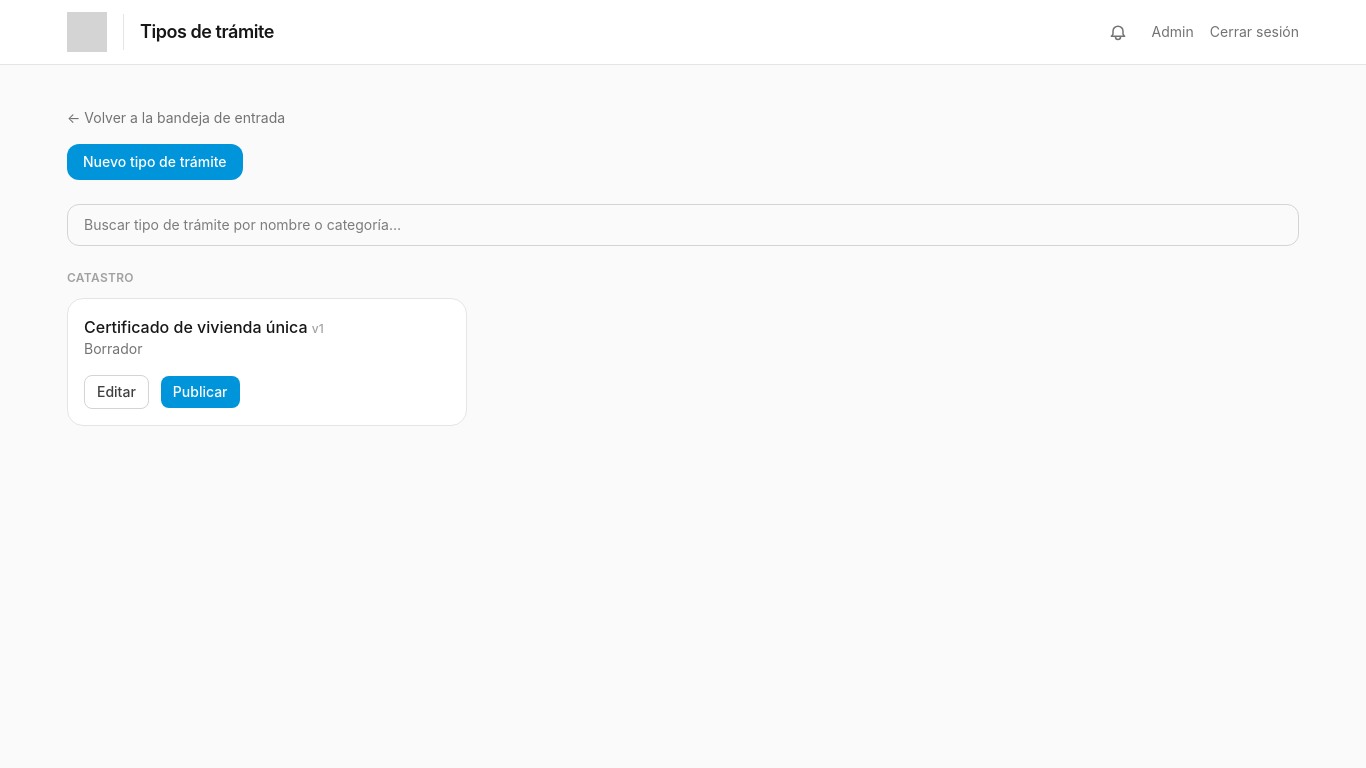
TiposTramite › abre el modal de edición precargado con los datos del tipo elegido
The image size is (1366, 768).
Check: the text "Certificado de vivienda única" is shown, box [84,317,308,337]
Click the button "Editar" at (116, 392), box [84,375,149,409]
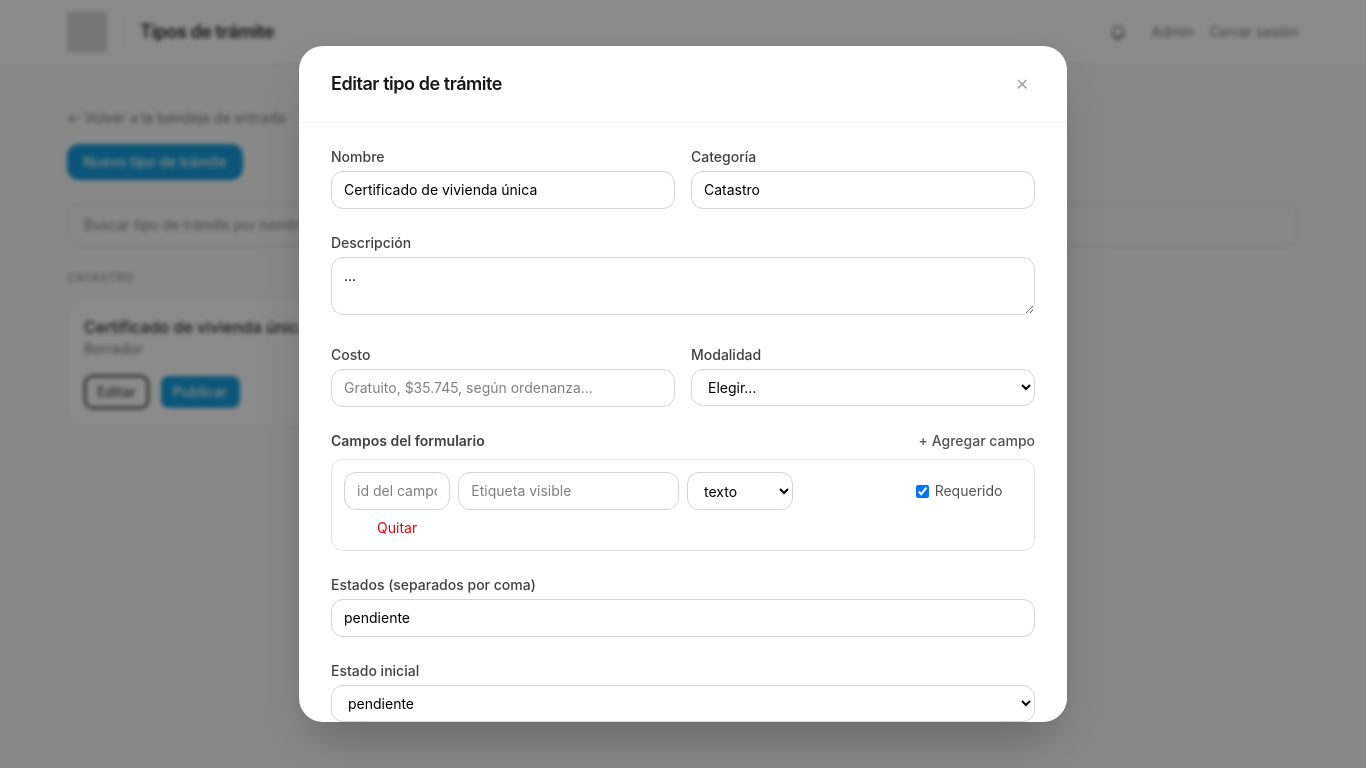
Check: the field labelled "Nombre" holds "Certificado de vivienda única", box [331,171,675,209]
